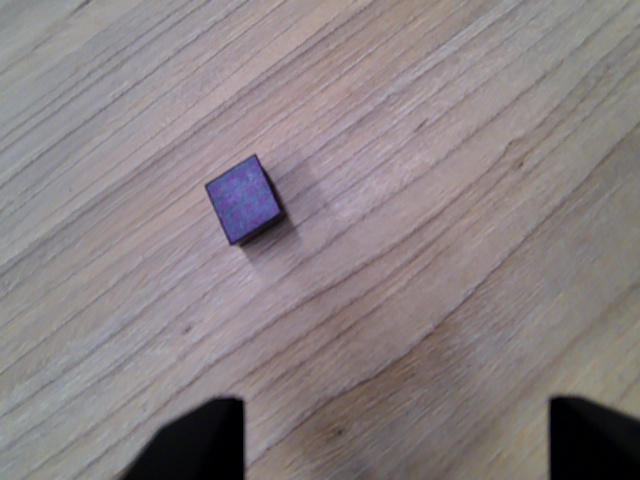brick: (201, 153, 286, 245)
